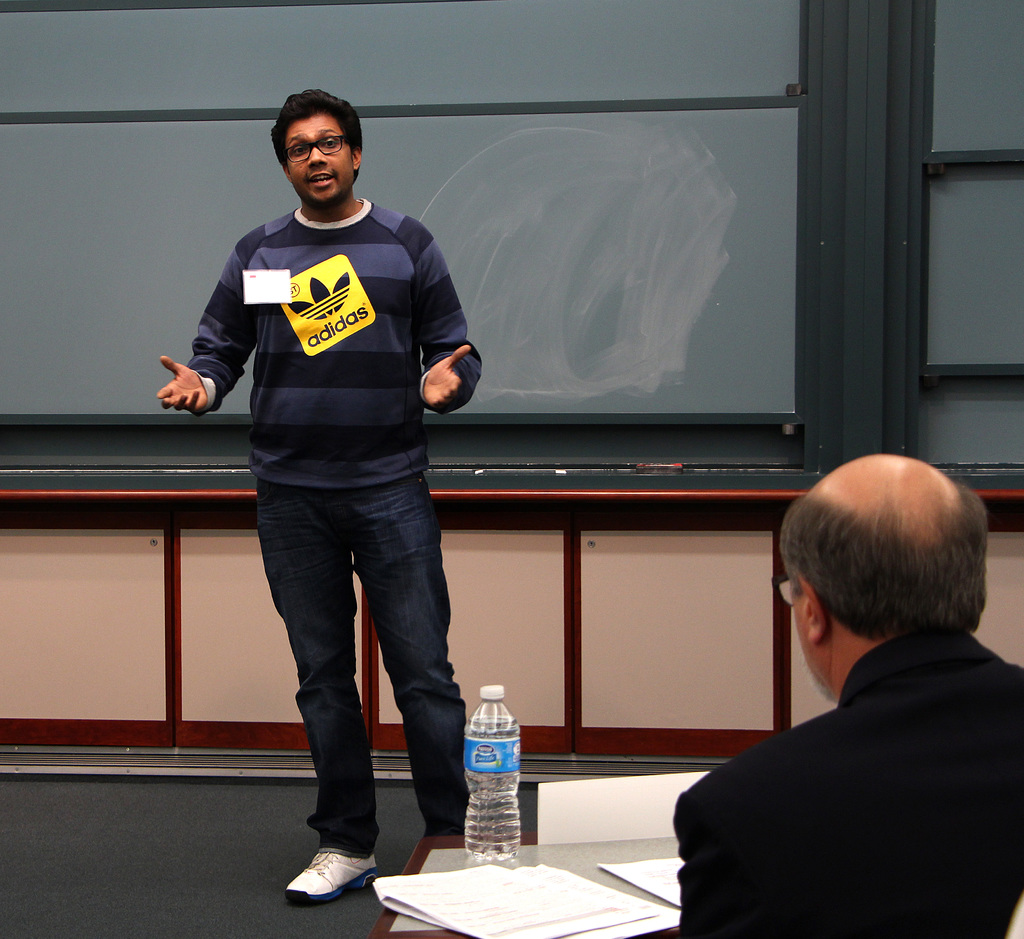Footwear: (282, 819, 381, 910)
